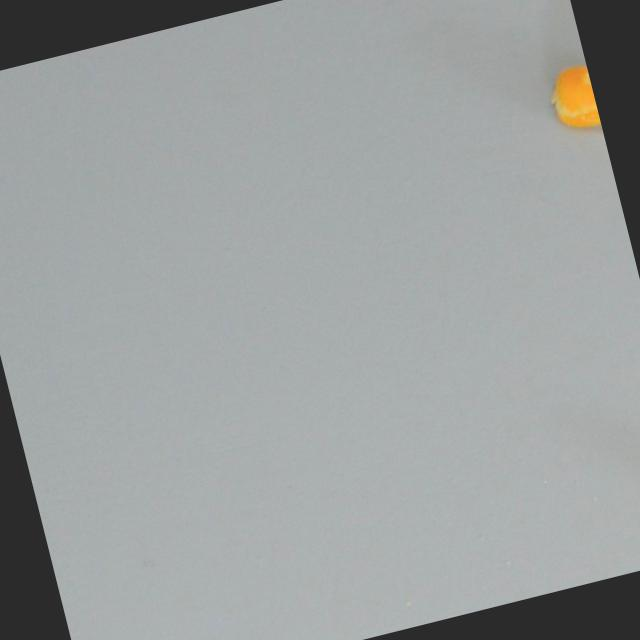pelicula: (540, 57, 602, 138)
